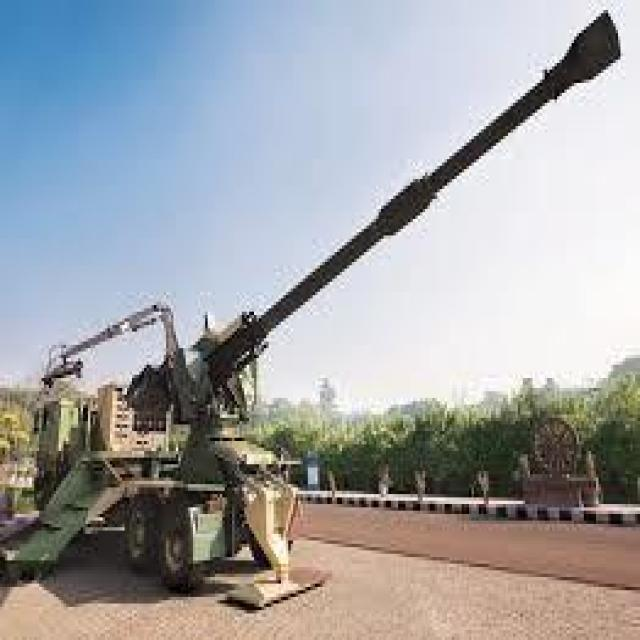Tanks: (2, 80, 572, 587)
